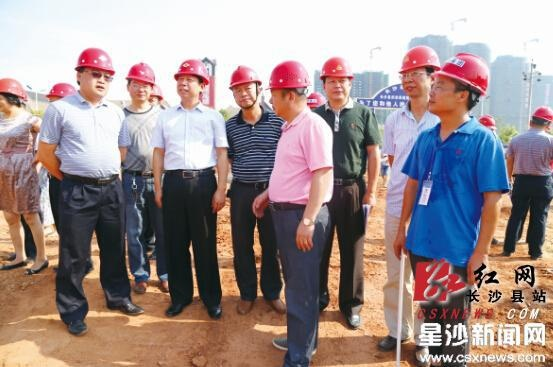red: (427, 49, 491, 120), (264, 59, 312, 120), (71, 46, 116, 101), (396, 44, 438, 101), (318, 55, 354, 103), (226, 63, 261, 111), (172, 58, 209, 103), (122, 61, 157, 104), (1, 78, 26, 116), (526, 105, 552, 132)
